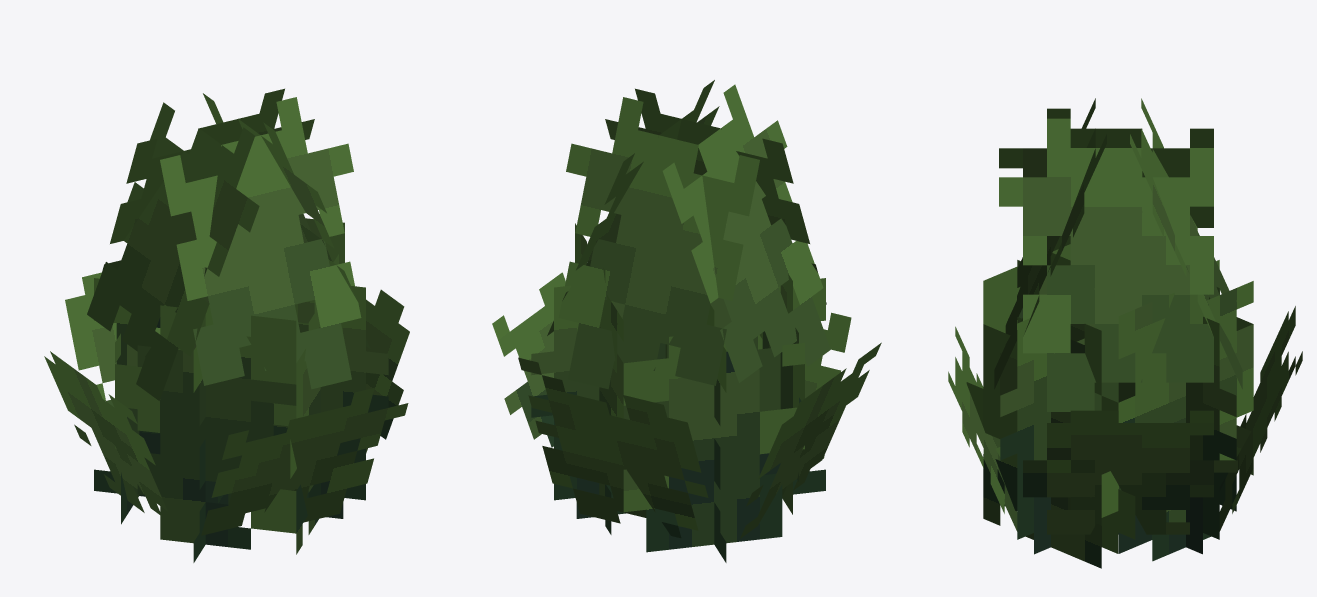
Rendered from bush_small.glb.
3 renders of one model, left to right at view 1: azimuth 30°, elevation 25°; view 2: azimuth 150°, elevation 25°; view 3: azimuth 270°, elevation 25°, orthographic.
Visible parts, largest first — view 1: cube (×14); view 2: cube (×13); view 3: cube (×13).
Part boxes in pixels (x1,y1,x2,y2): cube (×14): [44, 88, 409, 562]; cube (×13): [492, 80, 881, 562]; cube (×13): [948, 98, 1302, 568].
Size of the model in its own units: 0.9643 by 1.32 by 0.9643.
1 material, 1 textured.
